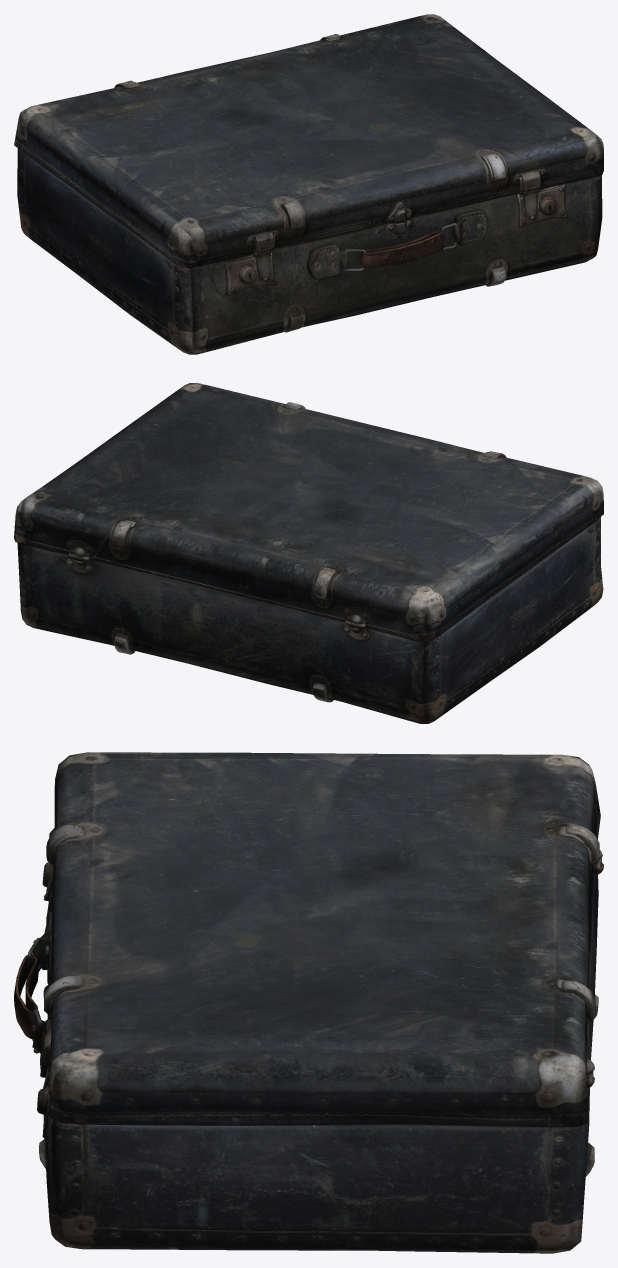
File: Old_Suitcase.fbx
3 views of the same model, one above another, from view 1: azimuth 30°, elevation 25°; view 2: azimuth 150°, elevation 25°; view 3: azimuth 270°, elevation 25° (orthographic). The views are drawn at different scales.
Visible parts, largest first — view 1: Old_Suitcase.001, Old_Suitcase; view 2: Old_Suitcase.001, Old_Suitcase; view 3: Old_Suitcase.001, Old_Suitcase.
Part boxes in pixels (x1,y1,x2,y2): Old_Suitcase.001: [14, 14, 603, 280]; Old_Suitcase: [17, 148, 602, 354]; Old_Suitcase.001: [14, 383, 603, 641]; Old_Suitcase: [17, 517, 603, 723]; Old_Suitcase.001: [43, 752, 600, 1127]; Old_Suitcase: [14, 850, 603, 1253].
Bounding box in the file's own units: 79.97 × 24.31 × 62.43.
